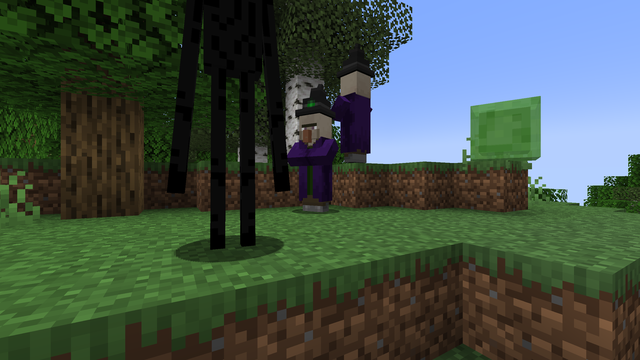endermens: (195, 0, 274, 258)
slimes: (461, 93, 549, 162)
sorcieres: (295, 107, 335, 212), (336, 65, 374, 163)
